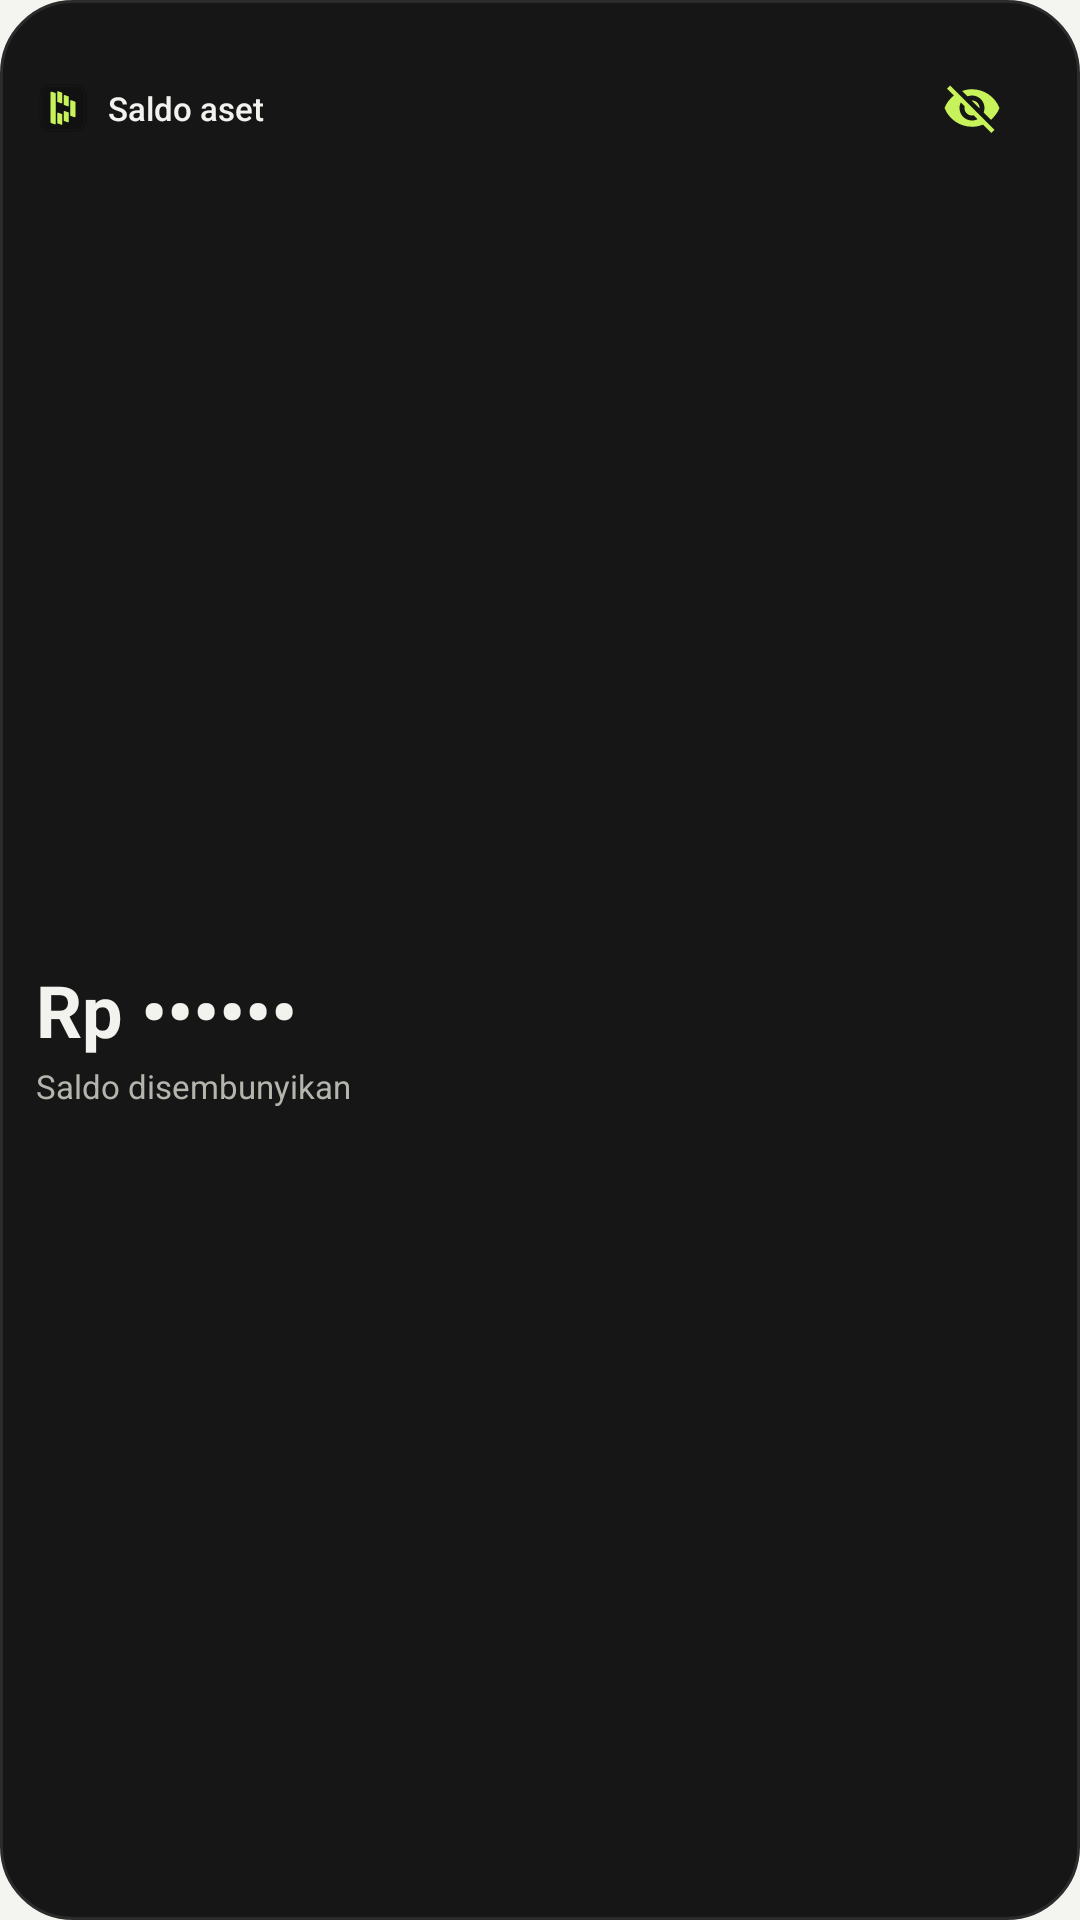

Icon bounding boxes for this 1080 x 1920 phone screenshot, format (x1, y1, x2, y2):
Tampilkan saldo: (944, 85, 1000, 133)
